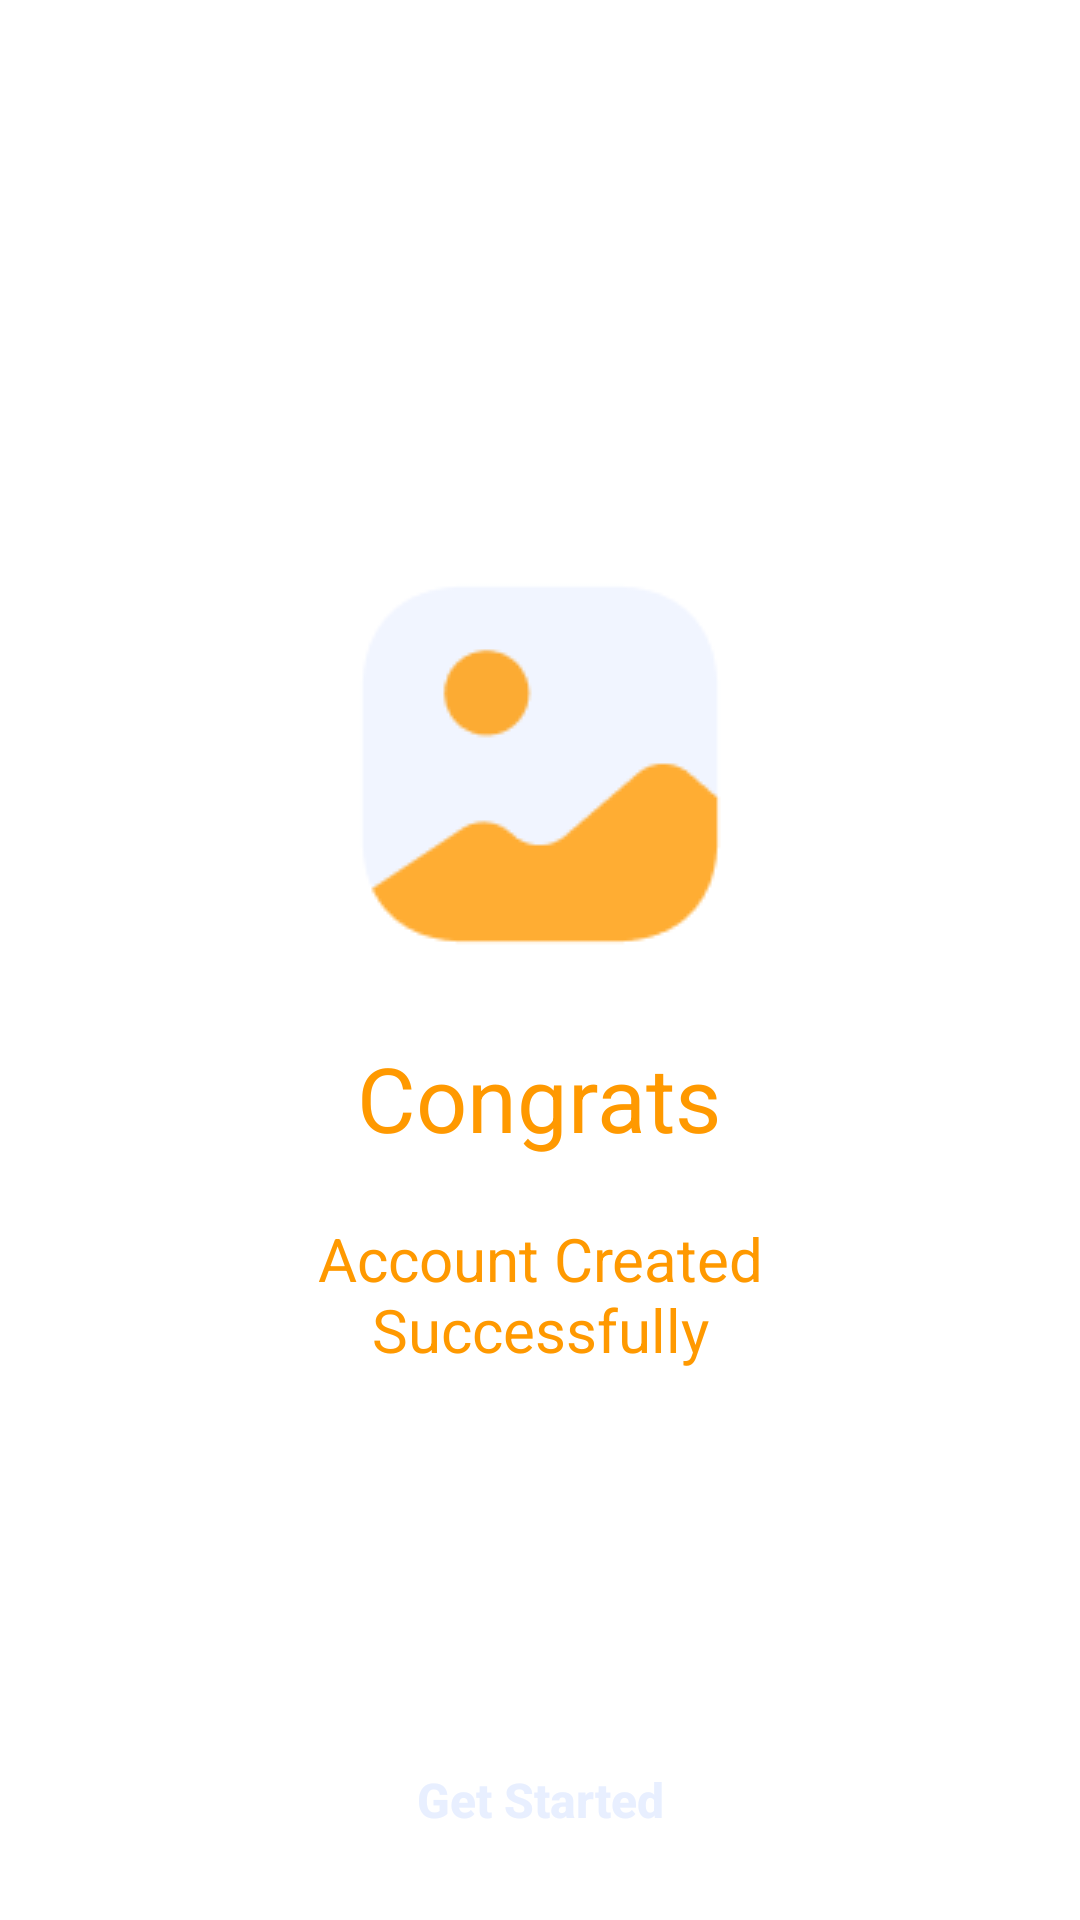

Named icons in this screenshot (1080w x 1920h) and their bounding boxes, (x1, y1, x2, y2):
gallery: (363, 587, 721, 945)
